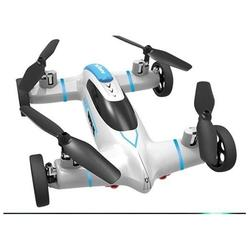drone: (13, 35, 238, 208)
